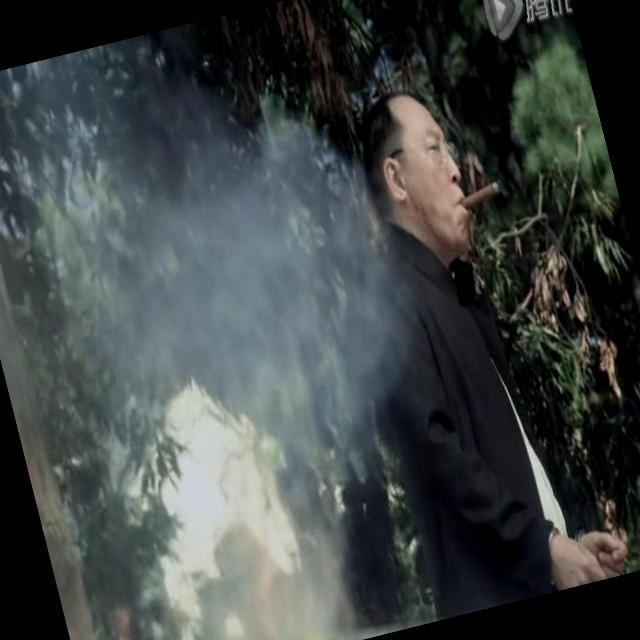smoke: (448, 153, 521, 232)
